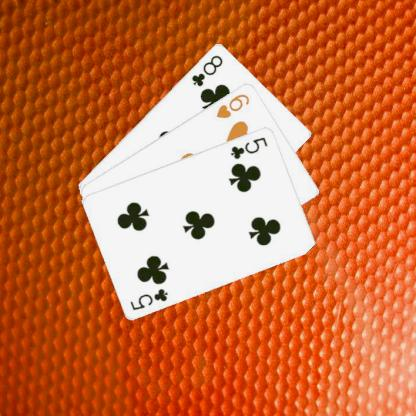5C: (127, 285, 170, 311), (228, 134, 269, 160)
6H: (213, 90, 251, 119)
8C: (188, 51, 224, 87)
